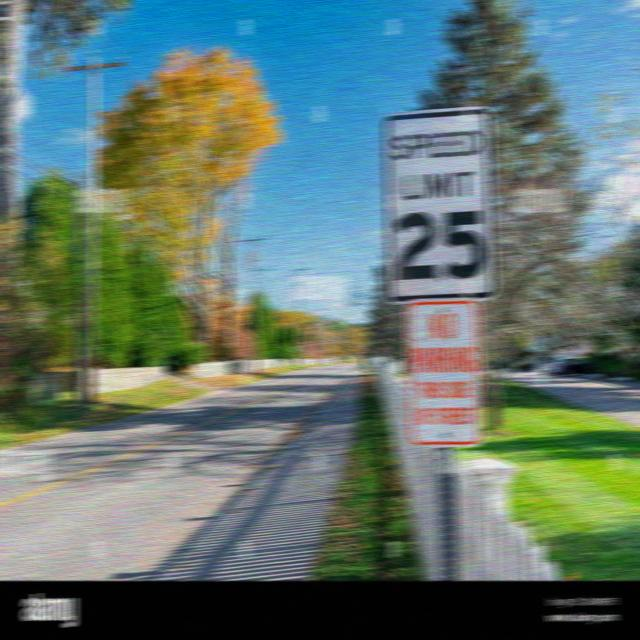speedLimit25: (380, 104, 499, 303)
